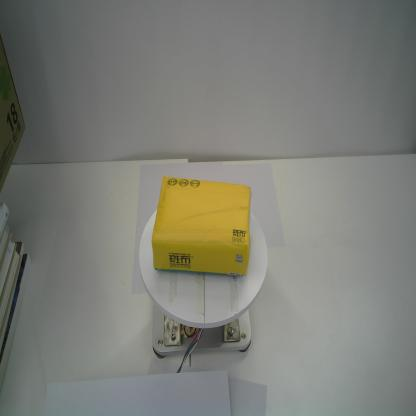Tissue: (150, 172, 252, 280)
